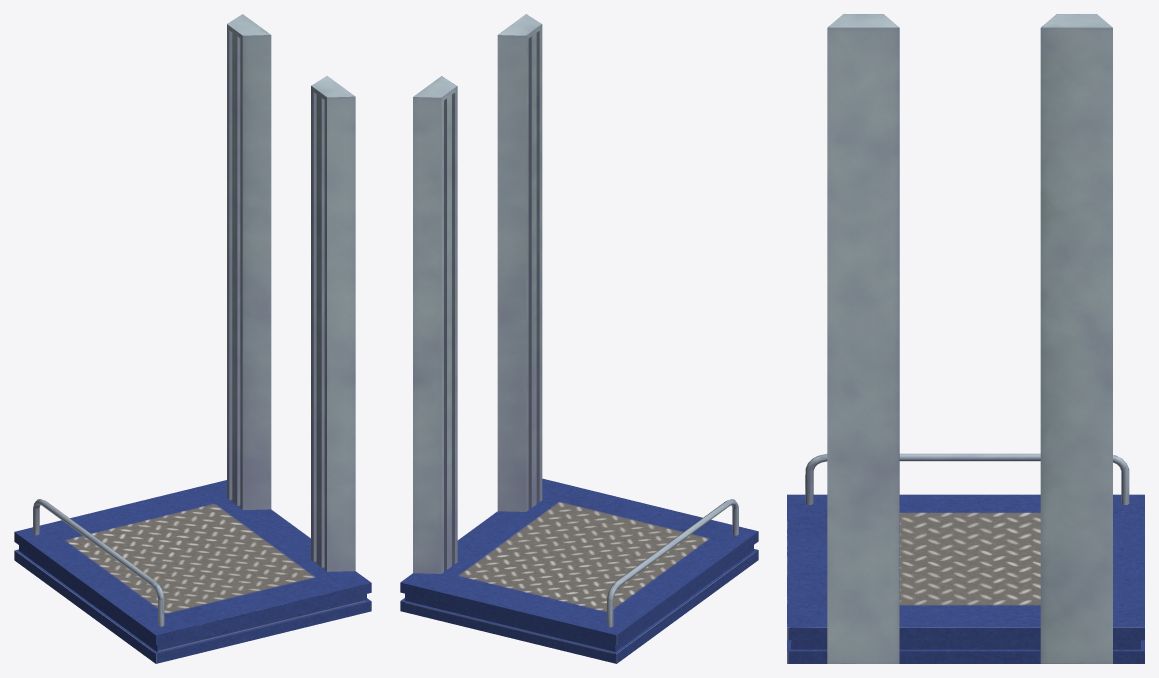
The model's file is elevator.fbx.
3 renders of one model, left to right at view 1: azimuth 30°, elevation 25°; view 2: azimuth 150°, elevation 25°; view 3: azimuth 270°, elevation 25°, orthographic. The views are drawn at different scales.
Parts seen in each view (by area): view 1: Cube.043, Cube.078, Cube.079, BézierCurve; view 2: Cube.043, Cube.078, Cube.079, BézierCurve; view 3: Cube.078, Cube.079, Cube.043, BézierCurve.
Boxes of the visible parts, <box> form: Cube.043: <box>14,480,371,663</box>; Cube.078: <box>311,76,355,571</box>; Cube.079: <box>227,14,271,509</box>; BézierCurve: <box>33,499,164,626</box>; Cube.043: <box>400,478,758,663</box>; Cube.078: <box>497,14,542,511</box>; Cube.079: <box>413,76,457,573</box>; BézierCurve: <box>607,499,738,627</box>; Cube.078: <box>827,14,899,663</box>; Cube.079: <box>1040,14,1112,663</box>; Cube.043: <box>787,494,1144,663</box>; BézierCurve: <box>805,453,1129,504</box>.
Bounding box in the file's own units: 1938 × 4318 × 2202.
Materials: 1 (1 with a texture image).
